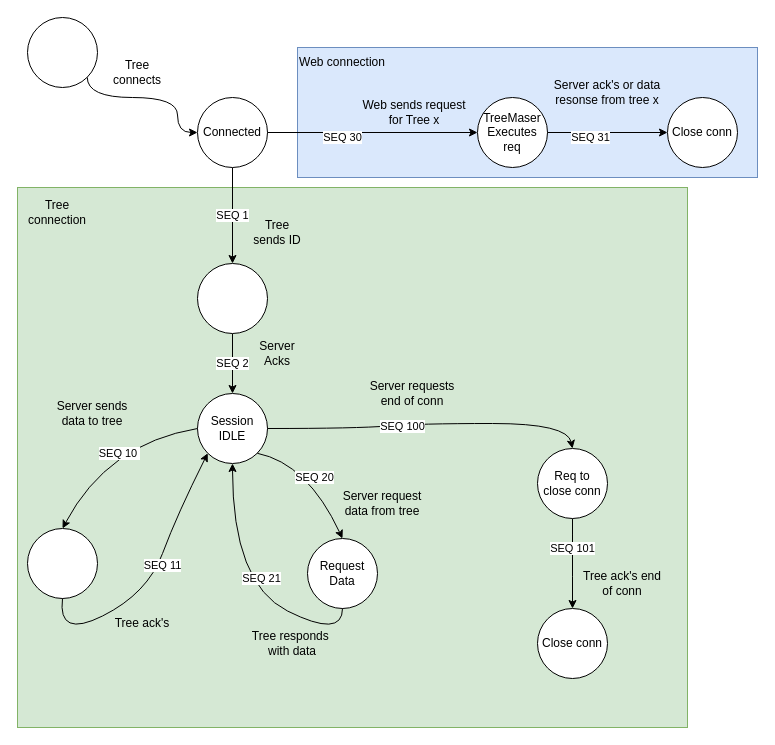
Some shapes in this 775 by 745 pixel diagram are drawn without their labels. The centre of each missing label's shape, as x and y in pixels:
Id recieved: point (232, 298)
Init: point (62, 52)
Write To tree: point (62, 563)
